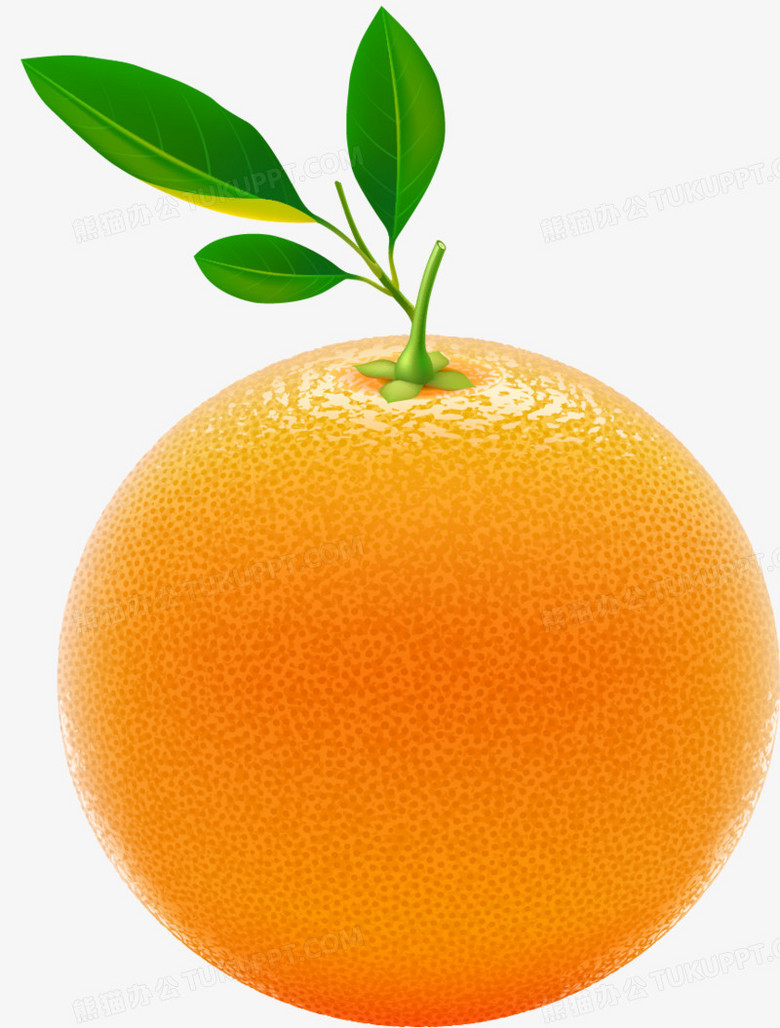orange: (41, 324, 779, 1024)
